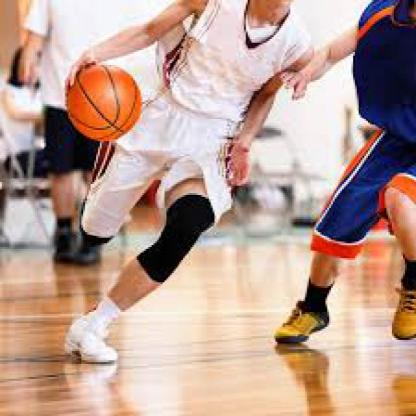basketball: (67, 63, 142, 141)
